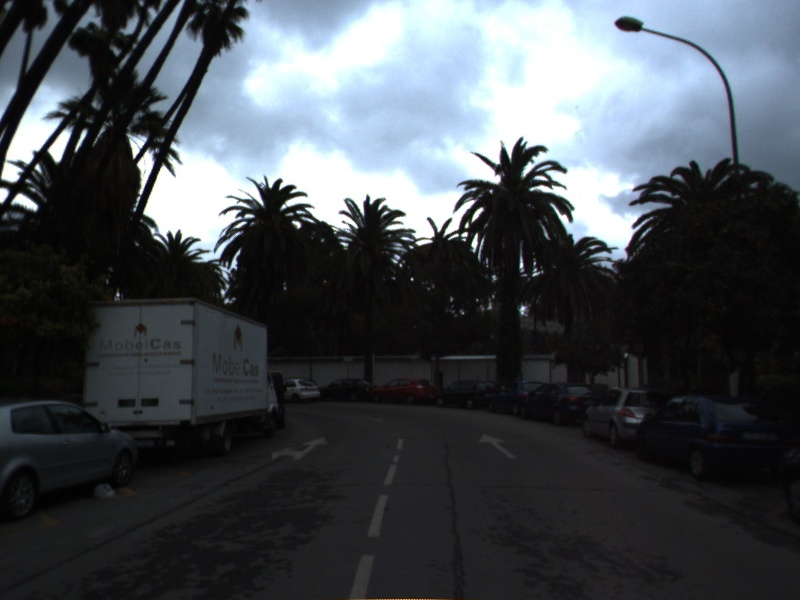STRAIGHT: (476, 432, 519, 460)
STRAIGHT_LEFT: (270, 435, 331, 463)
